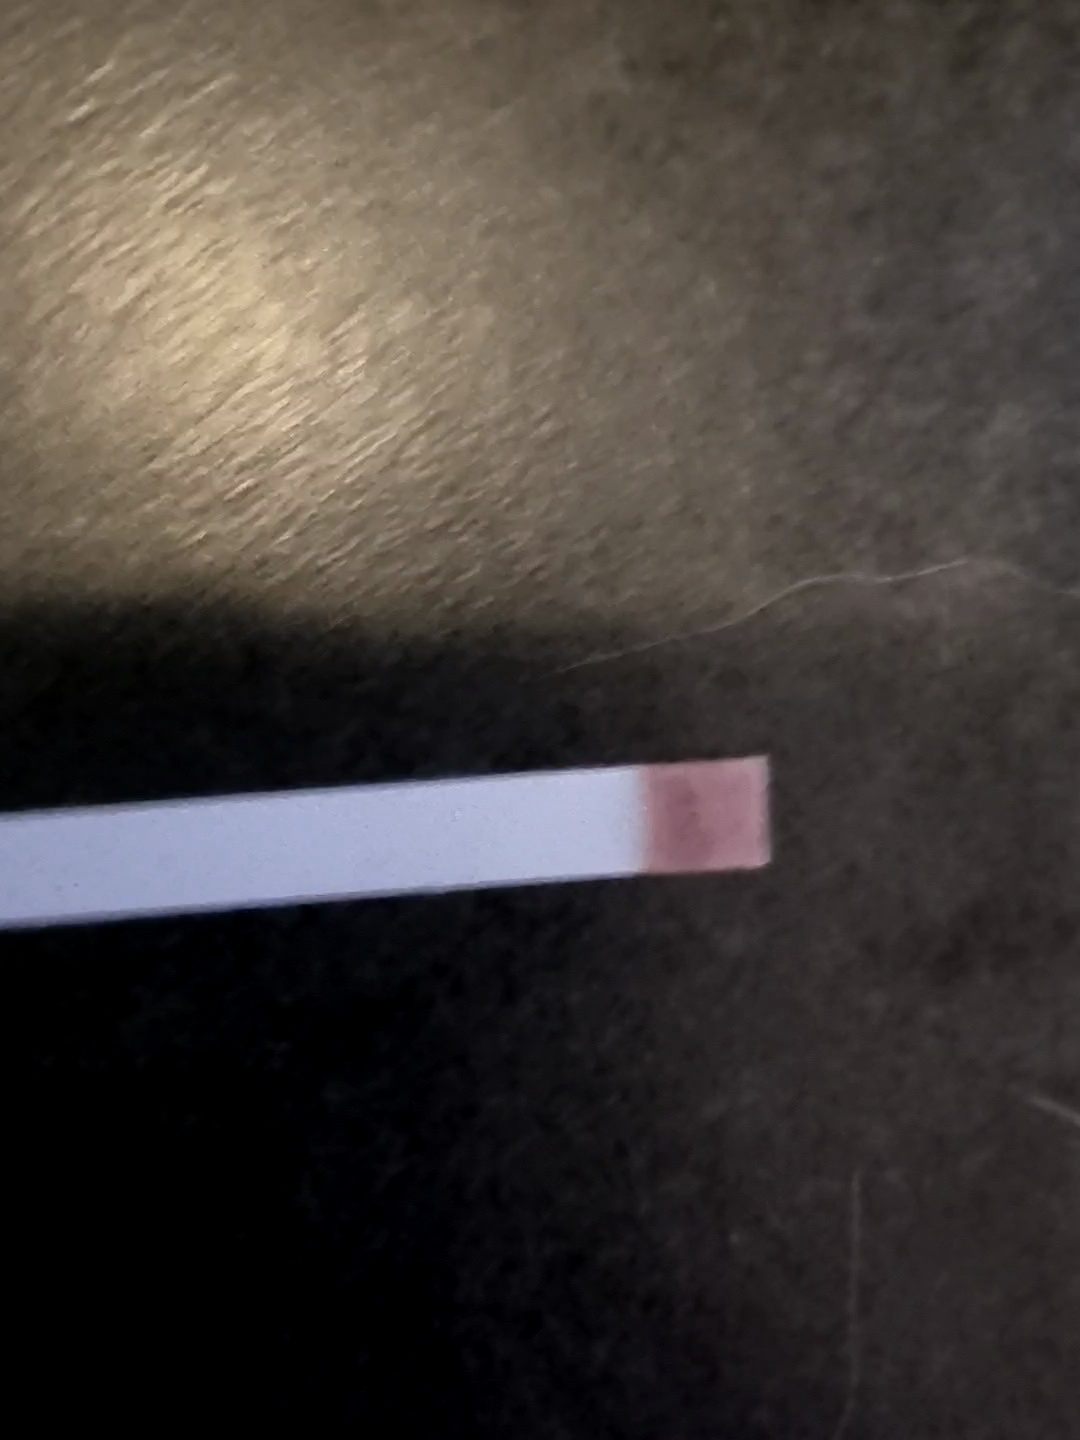keto-tip: (631, 749, 781, 884)
